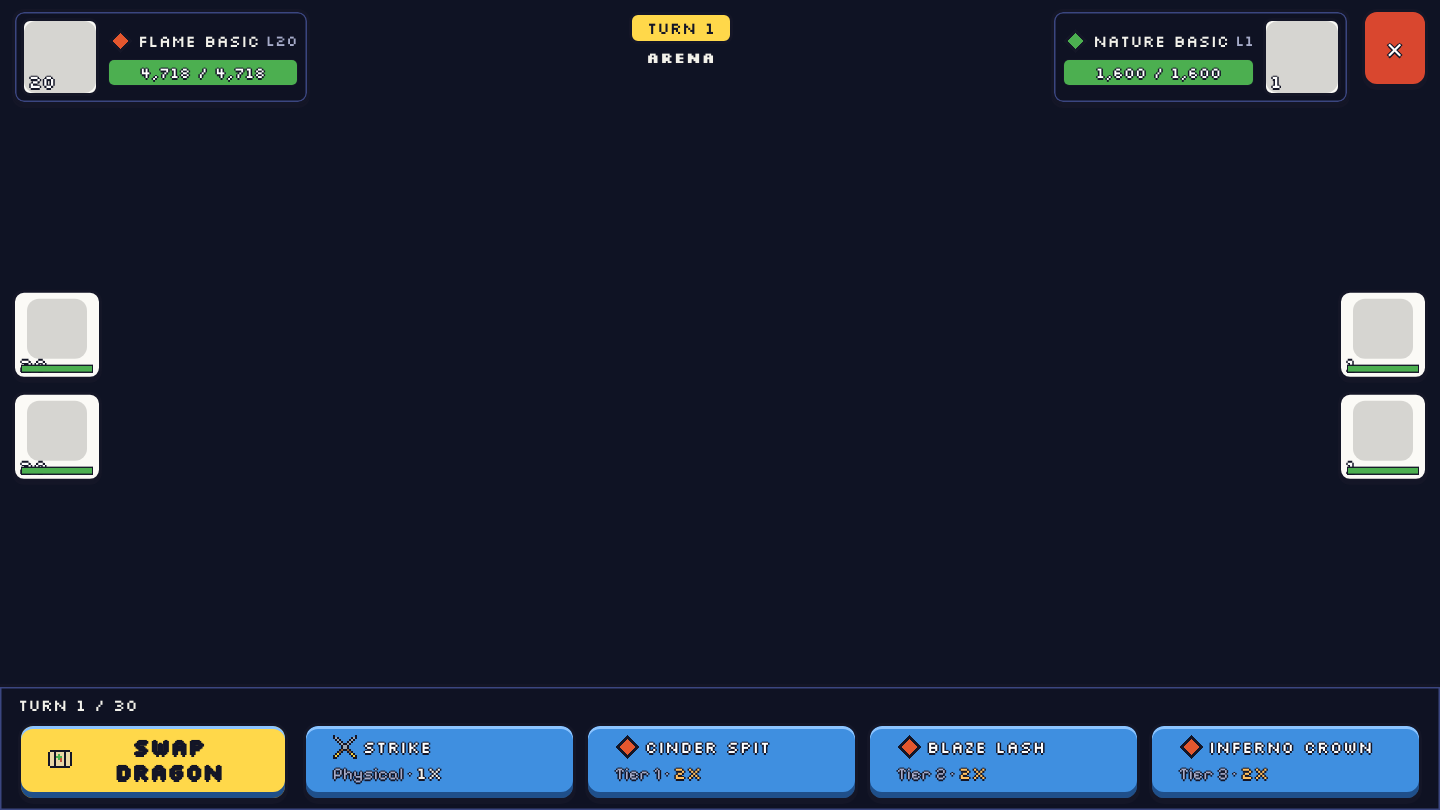
Test: BattlePanel › exit asks first and states the trophy cost; keeping on fighting sends nothing
The width and height of the screenshot is (1440, 810).
Click the button named "exit".
click(1395, 48)  # box [1362,9,1428,87]
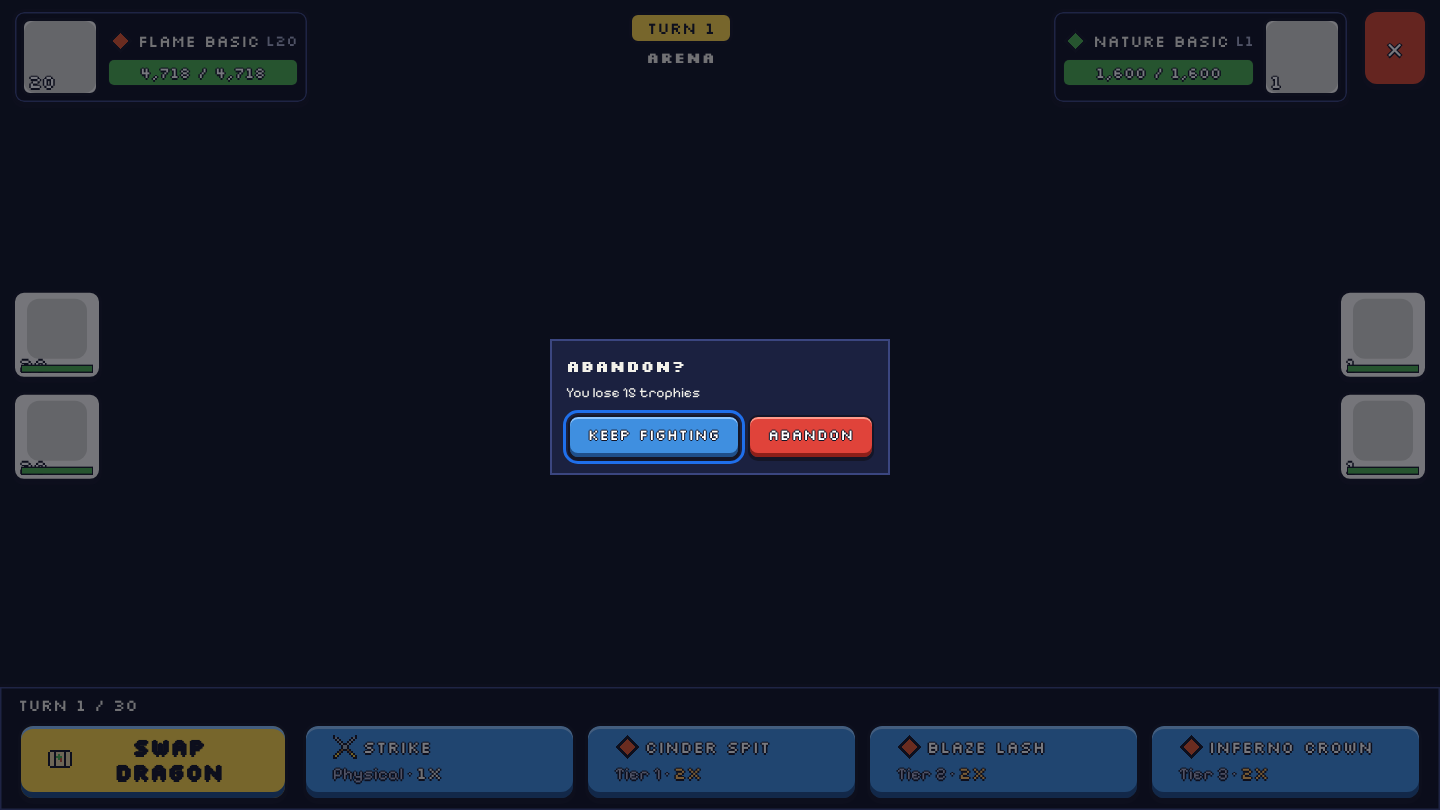
Result: the text "You lose 15 trophies" is shown at [566,384,700,401]
Click the button "Keep fighting".
click(654, 437)  # box [568,415,740,459]
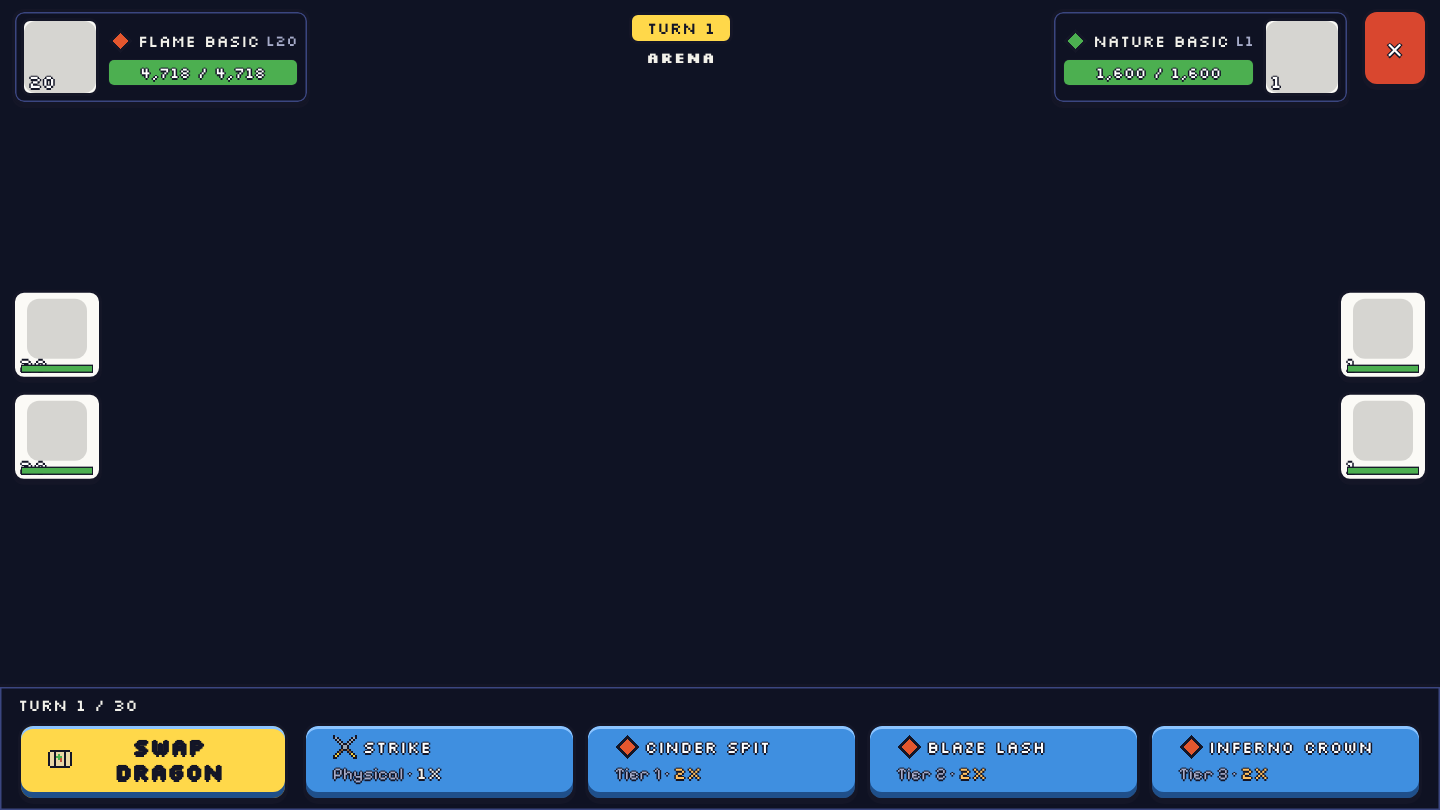
Result: the dialog is gone
Click the button named "exit".
click(1395, 48)  # box [1362,9,1428,87]
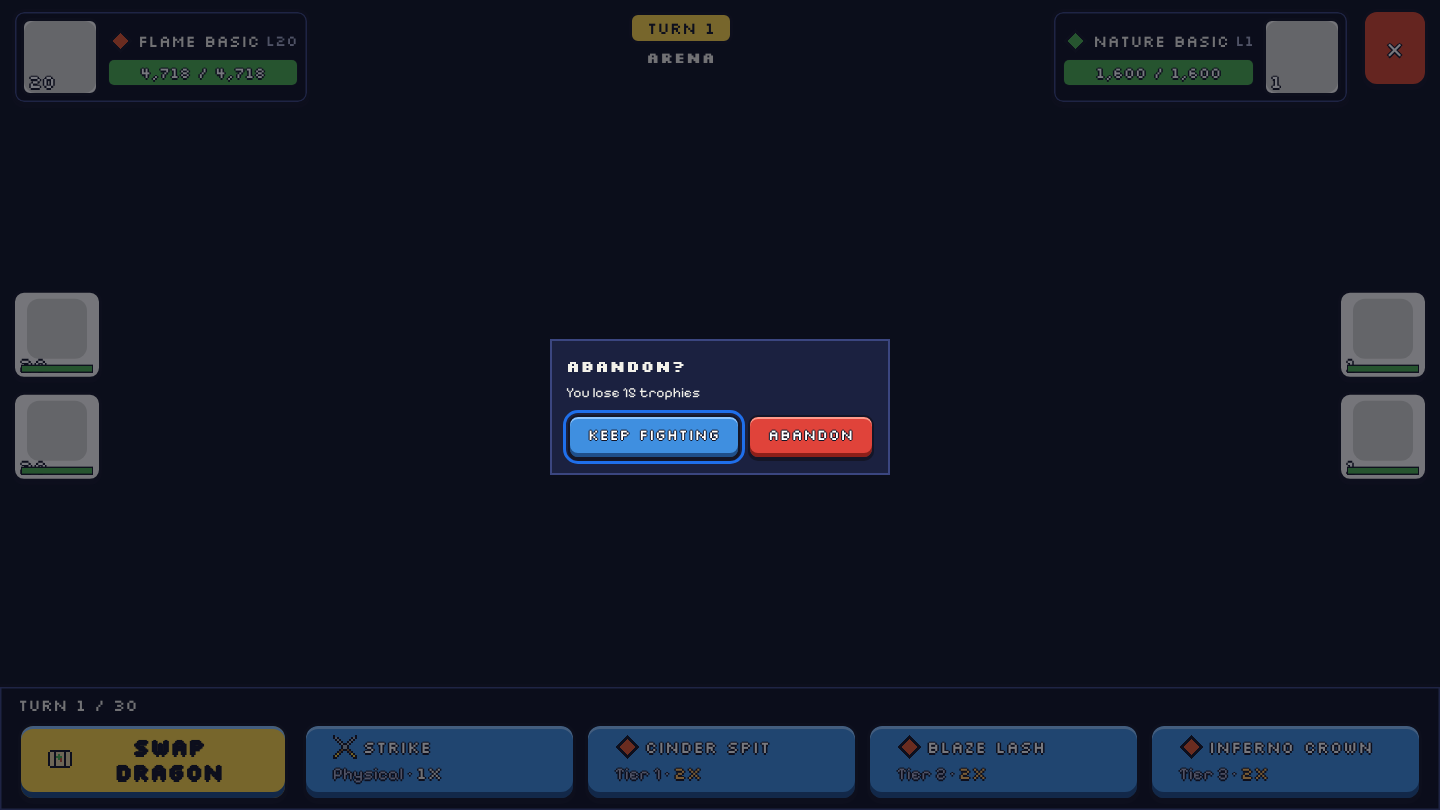
Click the button "Abandon".
click(811, 437)  # box [748,415,874,459]
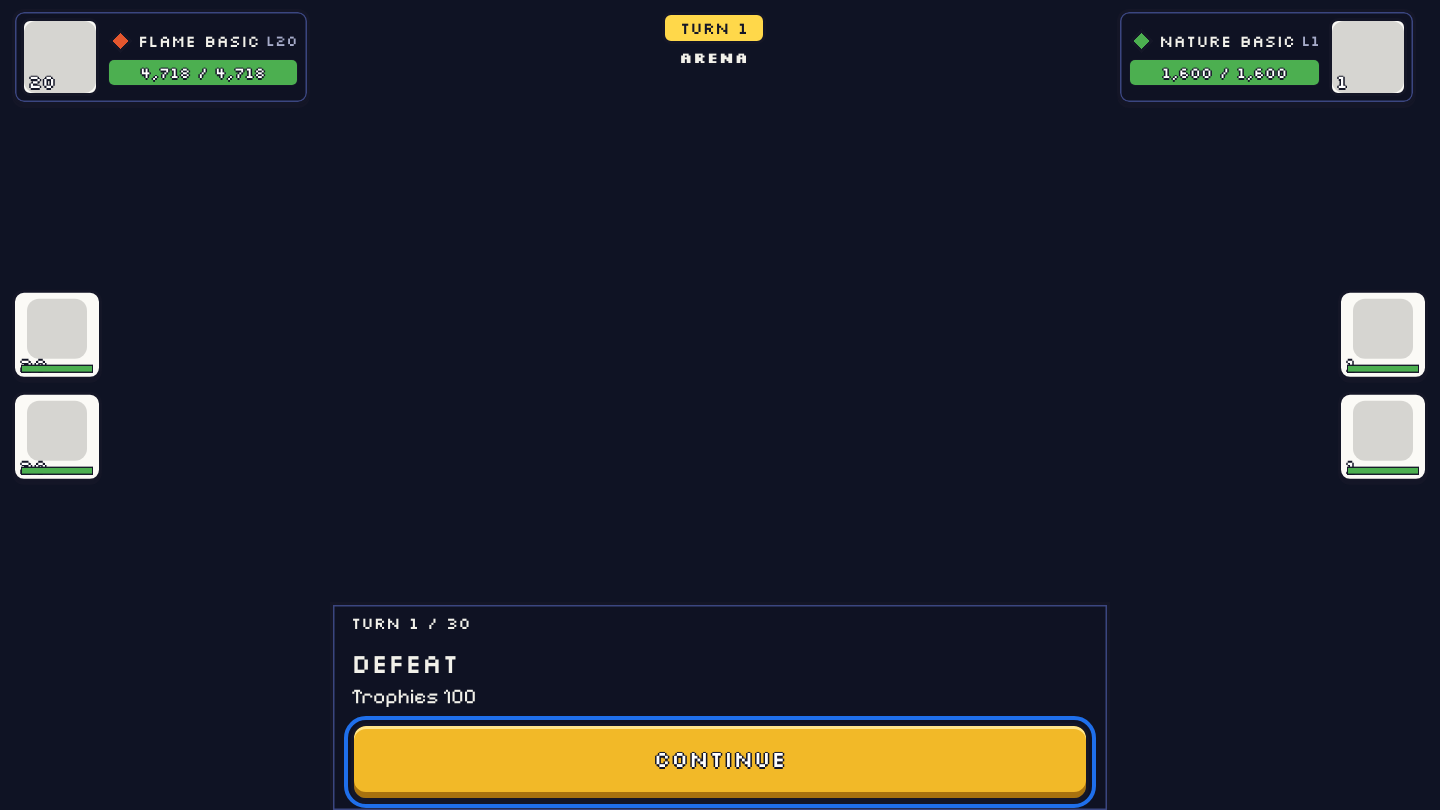
Result: the message named "battle result" shows "Defeat" at [351,645,459,680]
